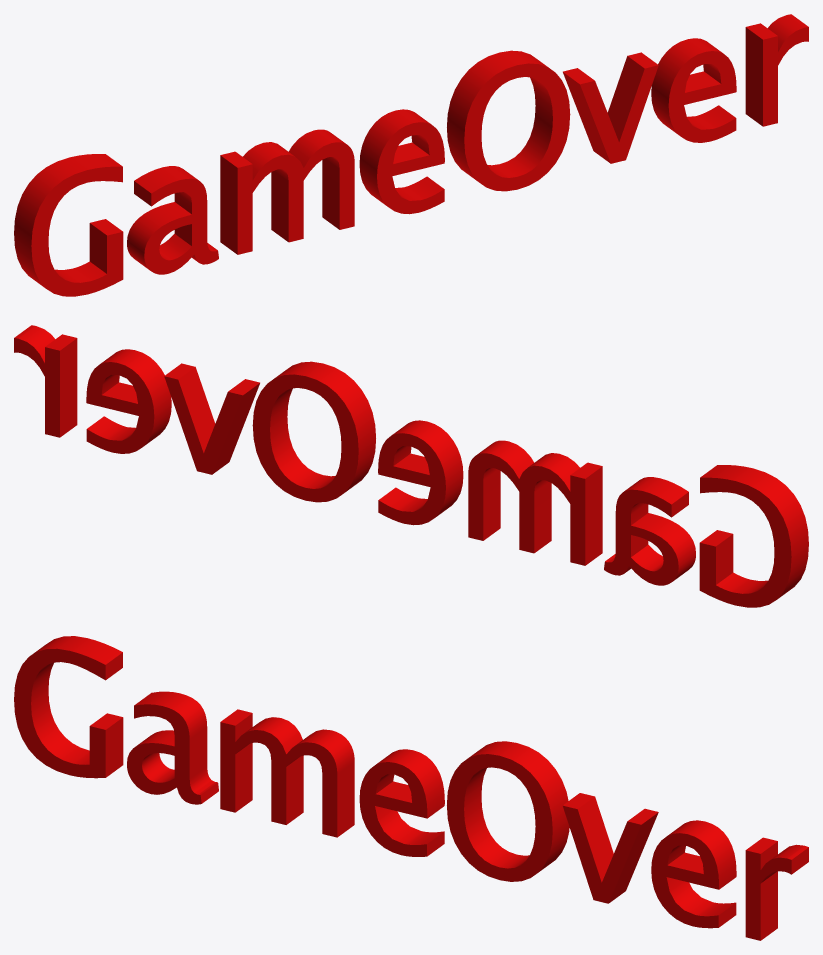
The model's file is GameOver.fbx.
3 views of the same model, one above another, from view 1: azimuth 30°, elevation 25°; view 2: azimuth 150°, elevation 25°; view 3: azimuth 330°, elevation 25° (orthographic).
Visible parts, largest first — view 1: typeMesh1; view 2: typeMesh1; view 3: typeMesh1.
Part boxes in pixels (bbox=[...]): typeMesh1: bbox=[14, 14, 808, 296]; typeMesh1: bbox=[14, 325, 808, 607]; typeMesh1: bbox=[14, 636, 808, 940].
Bounding box in the file's own units: 64.39 × 9.85 × 2.5.
